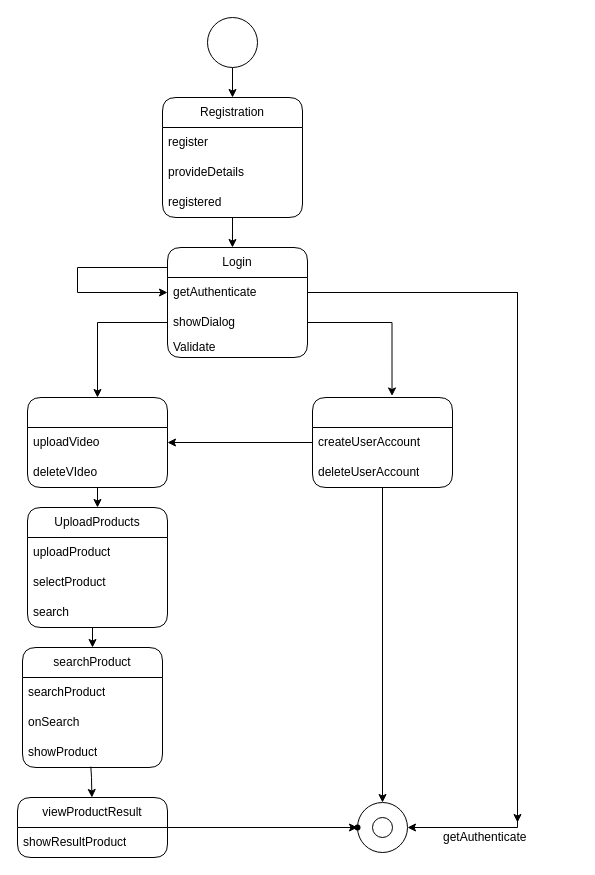
The diagram is 595 pixels wide and 875 high, and some of its shapes have lost their labels. The shapes that lost their labels are listed below. From the top down, each one's box as (x1, y1, x2, y2) in pixels, then its label:
(26, 396, 168, 488): Manage Warehouse
(312, 396, 452, 488): Manage User
